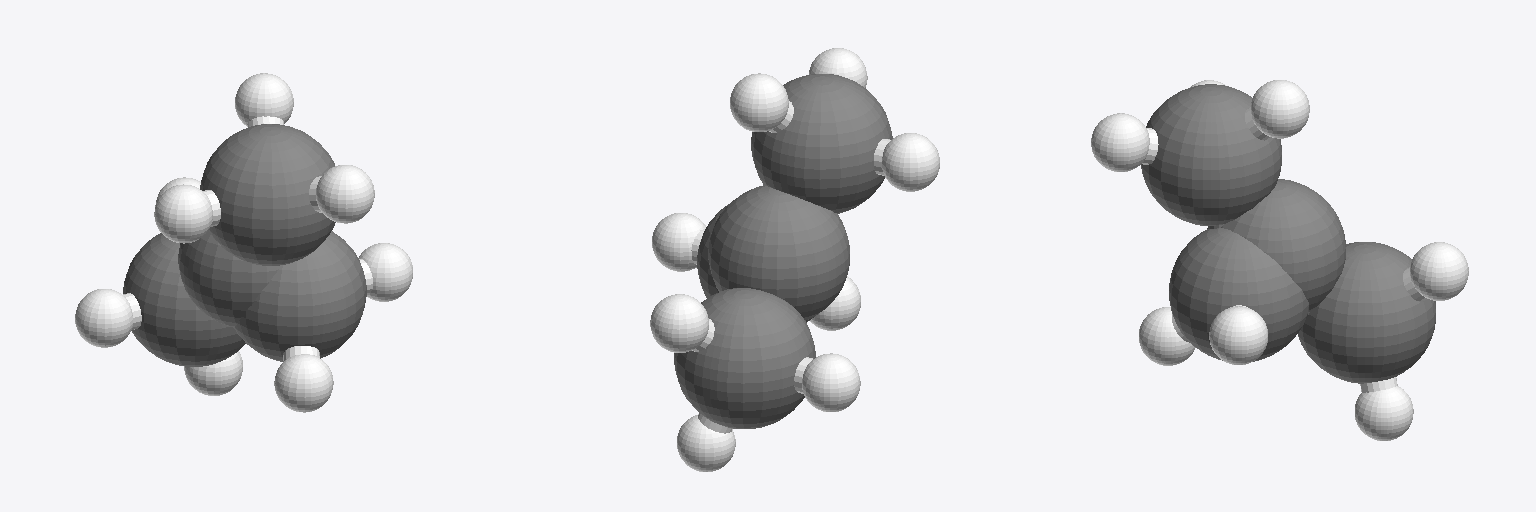
Rendered from ethane3D.obj.
3 views of the same model, side by side, from view 1: azimuth 30°, elevation 25°; view 2: azimuth 150°, elevation 25°; view 3: azimuth 270°, elevation 25° (orthographic).
Visible parts, largest first — view 1: Carbon_ball_SurfSphere.002, Hydrogen_ball_SurfSphere.003, Carbon_ball.001_SurfSphere, Hydrogen_sticks_cylinder.001; view 2: Carbon_ball_SurfSphere.002, Hydrogen_ball_SurfSphere.003, Carbon_ball.001_SurfSphere, Hydrogen_sticks_cylinder.001; view 3: Carbon_ball_SurfSphere.002, Hydrogen_ball_SurfSphere.003, Carbon_ball.001_SurfSphere, Hydrogen_sticks_cylinder.001.
Part boxes in pixels (bbox=[...]): Carbon_ball_SurfSphere.002: bbox=[123, 124, 366, 366]; Hydrogen_ball_SurfSphere.003: bbox=[75, 73, 412, 412]; Carbon_ball.001_SurfSphere: bbox=[178, 230, 280, 327]; Hydrogen_sticks_cylinder.001: bbox=[123, 116, 372, 360]; Carbon_ball_SurfSphere.002: bbox=[674, 74, 892, 428]; Hydrogen_ball_SurfSphere.003: bbox=[650, 48, 939, 471]; Carbon_ball.001_SurfSphere: bbox=[708, 185, 849, 320]; Hydrogen_sticks_cylinder.001: bbox=[691, 101, 890, 433]; Carbon_ball_SurfSphere.002: bbox=[1141, 84, 1435, 383]; Hydrogen_ball_SurfSphere.003: bbox=[1091, 80, 1468, 440]; Carbon_ball.001_SurfSphere: bbox=[1207, 179, 1345, 311]; Hydrogen_sticks_cylinder.001: bbox=[1142, 107, 1426, 392].
Size of the model in its own units: 3.32 by 4.25 by 4.09.